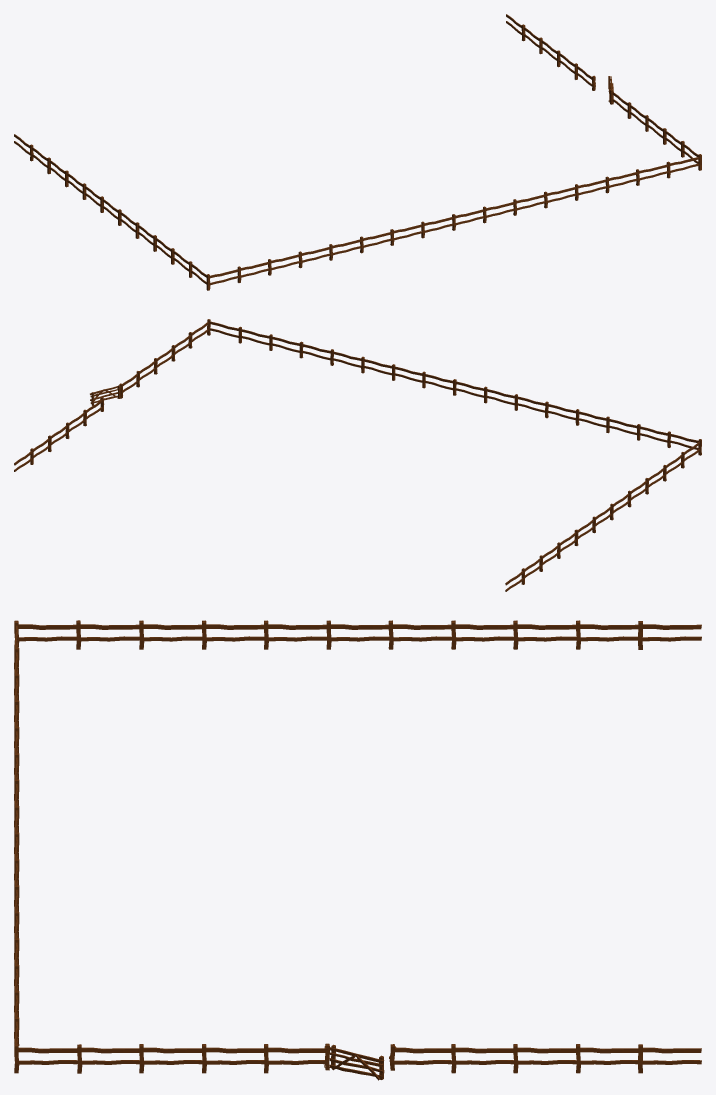
The model's file is FanceModel01.fbx.
3 renders of one model, top to bottom at view 1: azimuth 30°, elevation 25°; view 2: azimuth 150°, elevation 25°; view 3: azimuth 270°, elevation 25°, orthographic. The views are drawn at different scales.
Parts seen in each view (by area): view 1: Fence_Pole.002; view 2: Fence_Pole.002; view 3: Fence_Pole.002.
Part boxes in pixels (x1=…): Fence_Pole.002: x1=14, y1=14, x2=701, y2=290; Fence_Pole.002: x1=14, y1=319, x2=701, y2=591; Fence_Pole.002: x1=14, y1=620, x2=701, y2=1080.
Size of the model in its own units: 0.7984 by 0.0237 by 0.5303.
